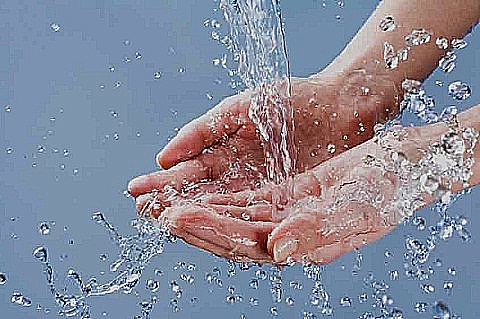washing hand: (80, 5, 401, 290)
